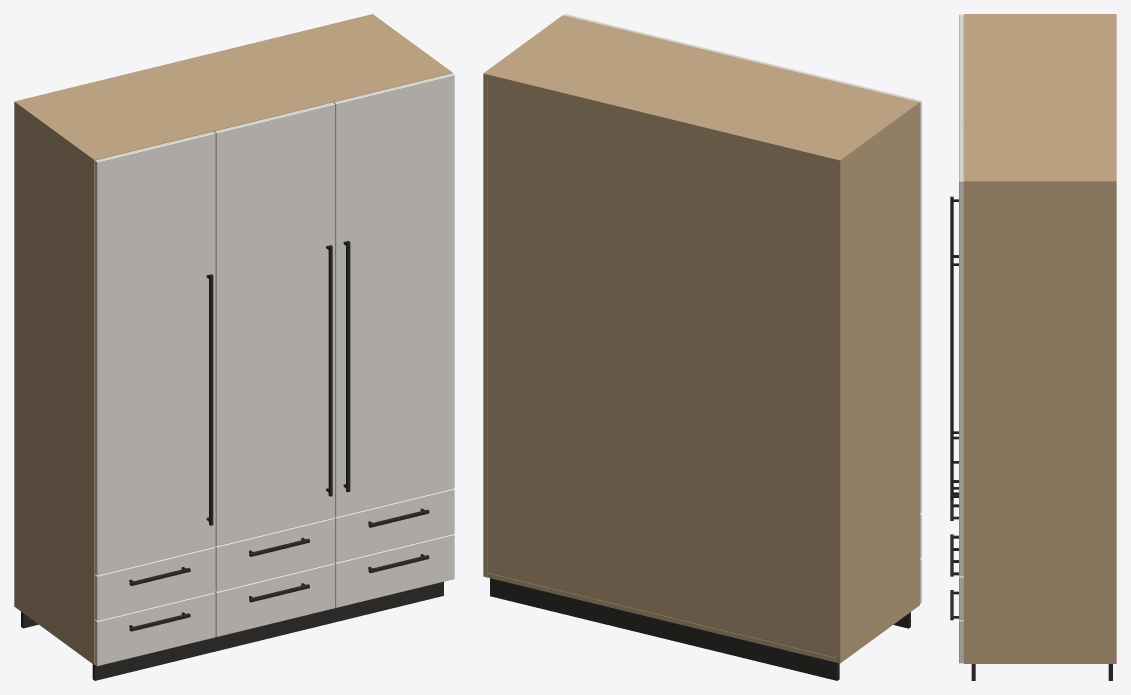
Rendered from 04_szafa_3d_150_szuflady.glb.
The picture shows the model from 3 angles, left to right: view 1: azimuth 30°, elevation 25°; view 2: azimuth 150°, elevation 25°; view 3: azimuth 270°, elevation 25°; orthographic projection. The views are drawn at different scales.
Parts seen in each view (by area): view 1: Korpus, Front_drzwi_4, Front_drzwi_1, Front_drzwi_7, Uchwyty, Cokol, Front_szuflada_3, Front_szuflada_6, Front_szuflada_2, Front_szuflada_5, Front_szuflada_9, Front_szuflada_8; view 2: Korpus, Cokol, Front_drzwi_1; view 3: Korpus, Front_drzwi_7, Uchwyty, Front_drzwi_4, Front_drzwi_1.
Boxes of the visible parts, <box> form: Korpus: <box>14,14,452,664</box>; Front_drzwi_4: <box>214,102,335,545</box>; Front_drzwi_1: <box>95,131,215,575</box>; Front_drzwi_7: <box>334,73,454,516</box>; Uchwyty: <box>129,241,429,631</box>; Cokol: <box>21,582,443,680</box>; Front_szuflada_3: <box>95,592,215,666</box>; Front_szuflada_6: <box>215,563,335,636</box>; Front_szuflada_2: <box>95,547,215,620</box>; Front_szuflada_5: <box>215,517,335,591</box>; Front_szuflada_9: <box>334,534,454,607</box>; Front_szuflada_8: <box>334,488,454,562</box>; Korpus: <box>483,15,919,663</box>; Cokol: <box>490,578,910,680</box>; Front_drzwi_1: <box>802,72,921,513</box>; Korpus: <box>963,14,1116,663</box>; Front_drzwi_7: <box>959,126,963,576</box>; Uchwyty: <box>950,196,958,620</box>; Front_drzwi_4: <box>959,70,963,126</box>; Front_drzwi_1: <box>959,14,963,70</box>.
Bounding box in the file's own units: 1.5 × 2.1 × 0.63.
